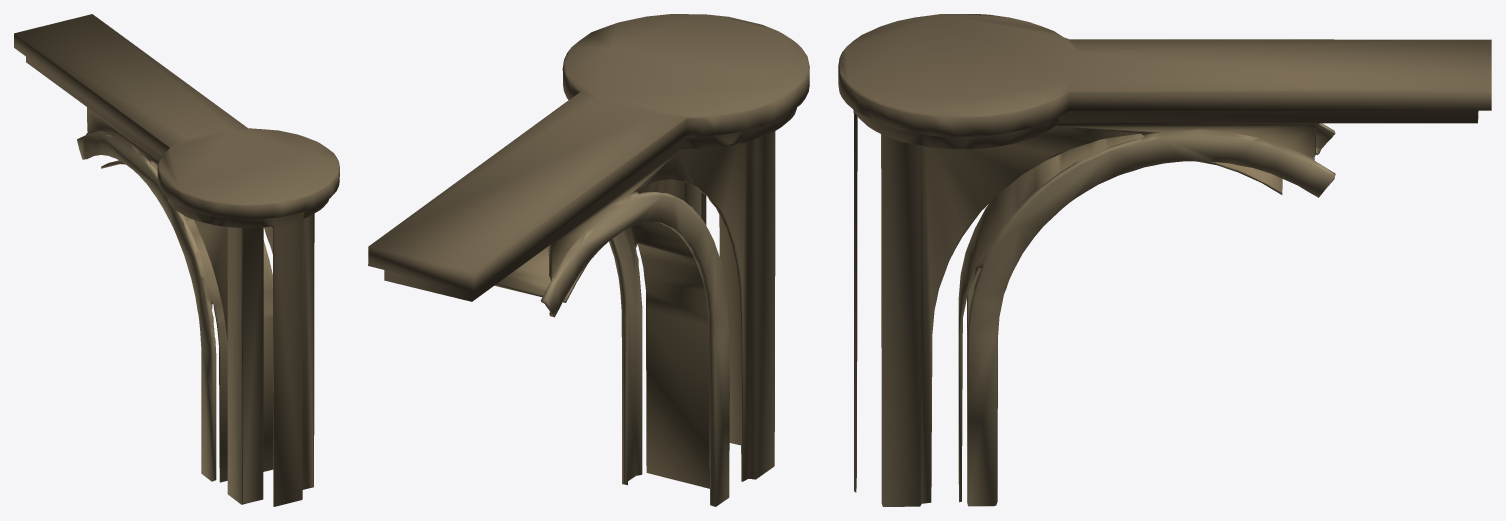
File: ruina_mirador_lejos.glb
3 views of the same model, side by side, from view 1: azimuth 30°, elevation 25°; view 2: azimuth 150°, elevation 25°; view 3: azimuth 270°, elevation 25° (orthographic). The views are drawn at different scales.
Visible parts, largest first — view 1: ruina_mirador_lejos; view 2: ruina_mirador_lejos; view 3: ruina_mirador_lejos.
Part boxes in pixels (left/top/right/bottom): ruina_mirador_lejos: left=14, top=14, right=339, bottom=506; ruina_mirador_lejos: left=368, top=14, right=809, bottom=506; ruina_mirador_lejos: left=838, top=14, right=1491, bottom=506.
Bounding box in the file's own units: 5.58 × 10.47 × 14.78.
